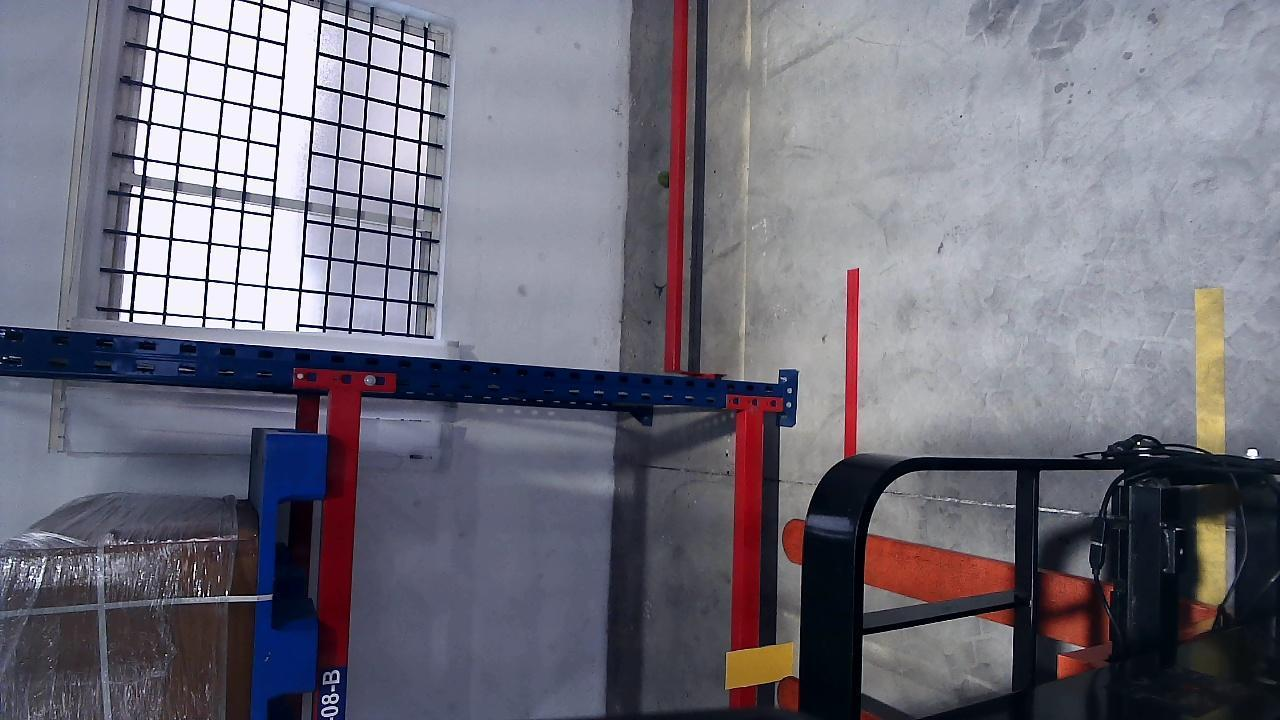red_line: (844, 269, 861, 455)
yellow_line: (1194, 287, 1225, 455)
